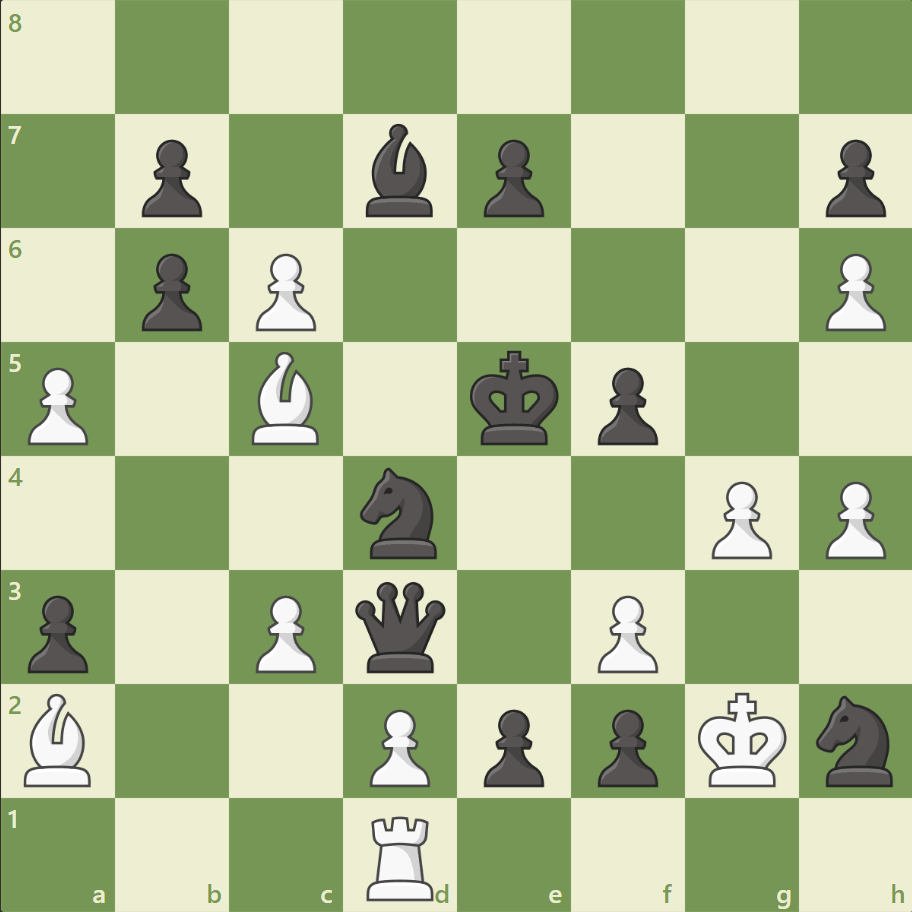B: (17, 687, 101, 790), (244, 347, 328, 449)
K: (692, 685, 792, 793)
P: (247, 246, 322, 337), (20, 359, 95, 450), (701, 473, 776, 564), (247, 586, 322, 677), (815, 246, 889, 337), (815, 473, 889, 564), (588, 586, 662, 677), (361, 700, 435, 791)
R: (360, 806, 442, 904)
b: (358, 120, 442, 222)
k: (465, 344, 565, 452)
n: (351, 461, 449, 564), (806, 688, 903, 791)
p: (133, 132, 208, 223), (474, 132, 549, 223), (133, 246, 208, 337), (20, 586, 95, 677), (474, 700, 549, 791), (815, 132, 889, 223), (588, 359, 662, 450), (588, 700, 662, 791)
q: (351, 576, 450, 676)
